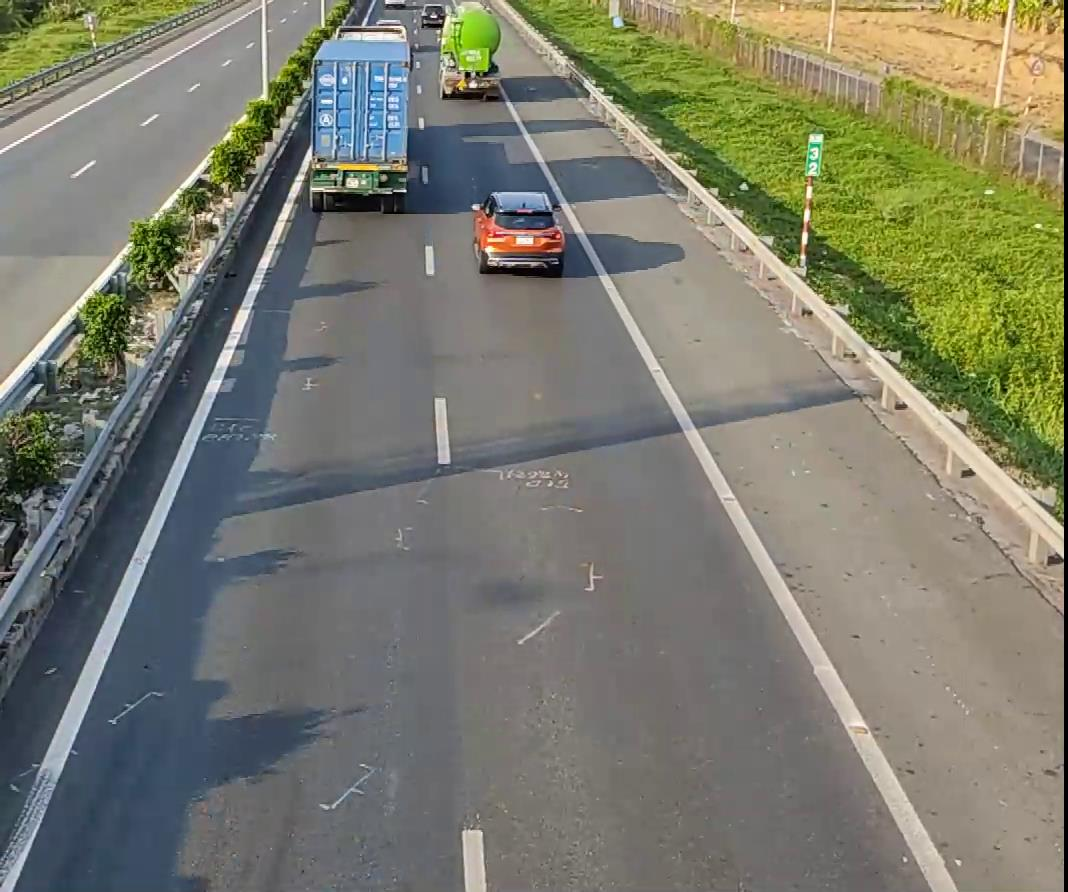car: (471, 190, 565, 273)
container: (305, 20, 414, 211)
truck: (436, 0, 500, 98)
